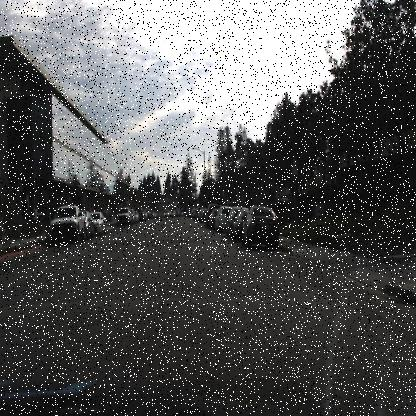car: (238, 205, 280, 250), (47, 201, 85, 248), (241, 204, 284, 244), (88, 208, 109, 236), (79, 206, 95, 241), (115, 207, 130, 227)
